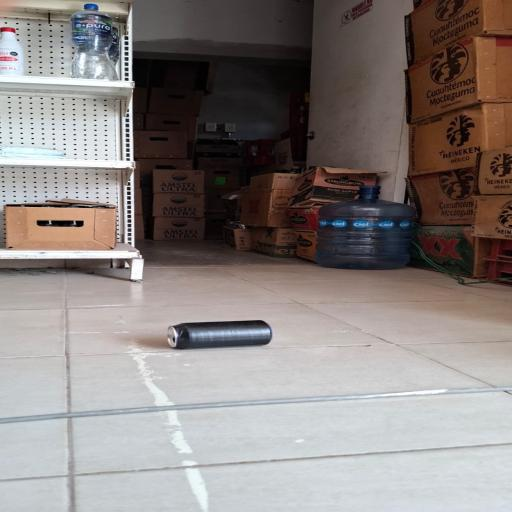LATA: (146, 321, 289, 353)
